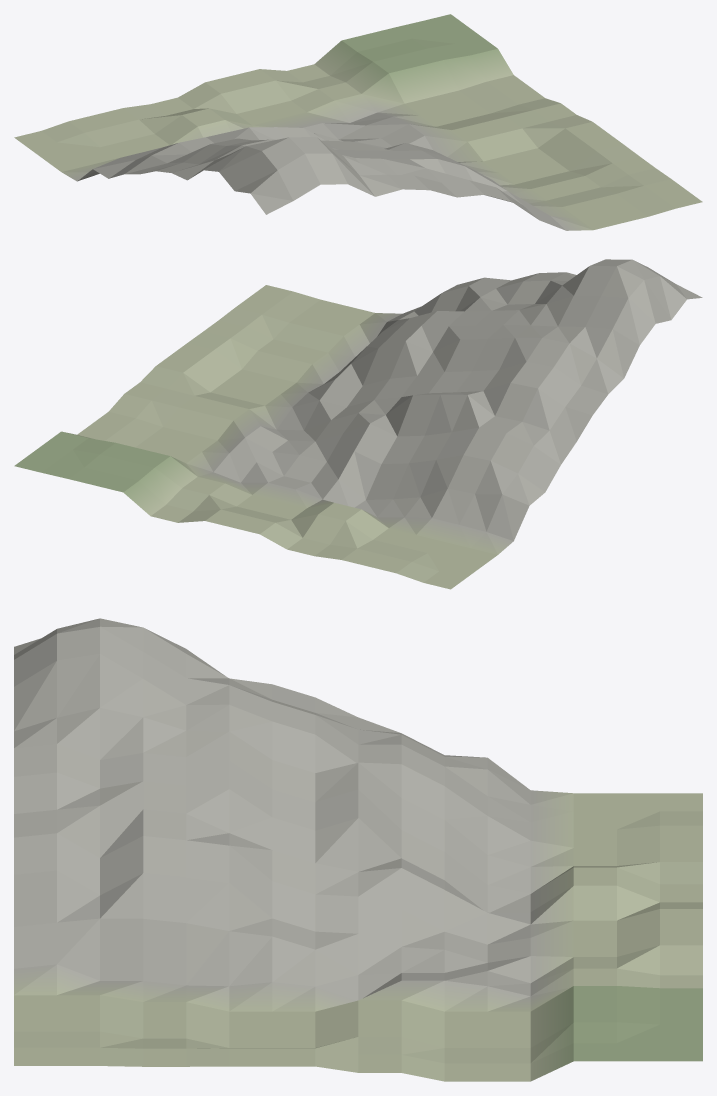
The picture shows the model from 3 angles, top to bottom: view 1: azimuth 30°, elevation 25°; view 2: azimuth 150°, elevation 25°; view 3: azimuth 270°, elevation 25°; orthographic projection. The views are drawn at different scales.
Bounding box in the file's own units: 32 × 10.97 × 32.
